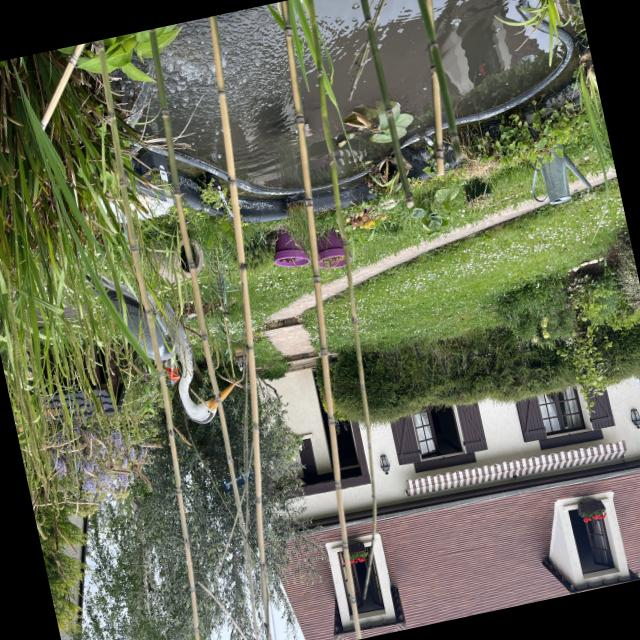Heron: (68, 188, 246, 456)
